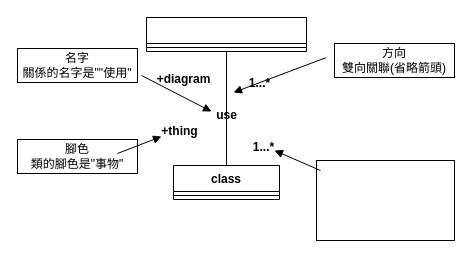
Image size: 472x258. Some labels were removed from this diagram. The shapes that lost their labels are listed below. From the top down, each one's box as (x1, y1, x2, y2) in pixels, then its label:
(146, 16, 306, 52): ClassDiagram
(316, 160, 454, 240): 多重性 (用數字和*表示) 1...* : 1個或多個 1個類圖有1個或多個類 1個類屬於1個或多個類圖
